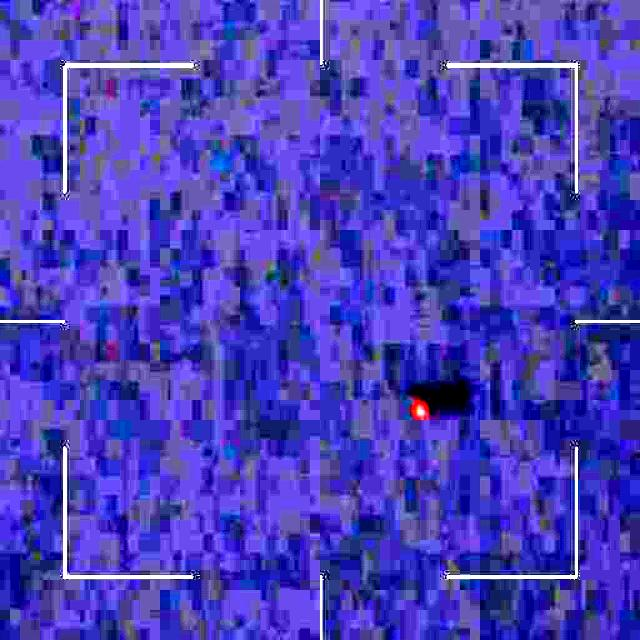bird: (408, 388, 438, 425)
